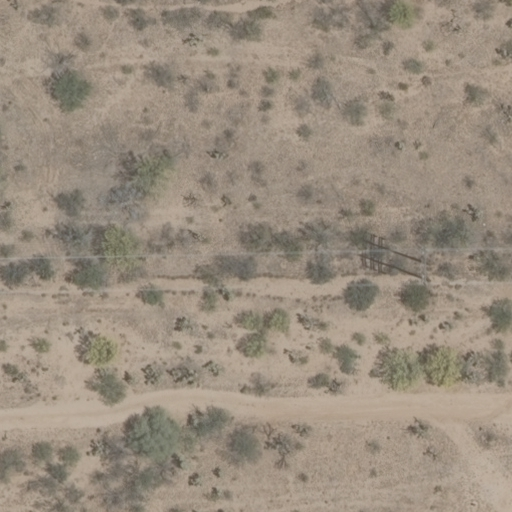TT: (353, 231, 422, 283)
